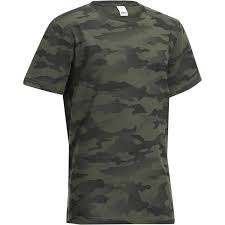T-Shirt: (21, 1, 204, 223)
